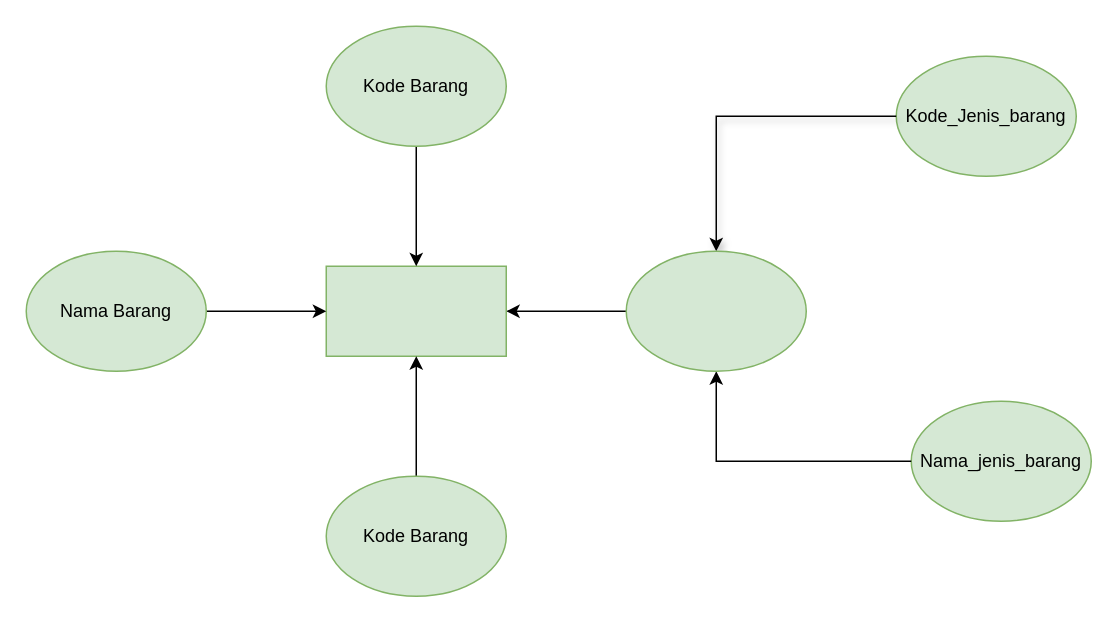
This 1118x623 diagram has some shape labels left out. Each missing label, with the centre of its shape:
Barang: (415,310)
Jenis Barang: (715,310)
